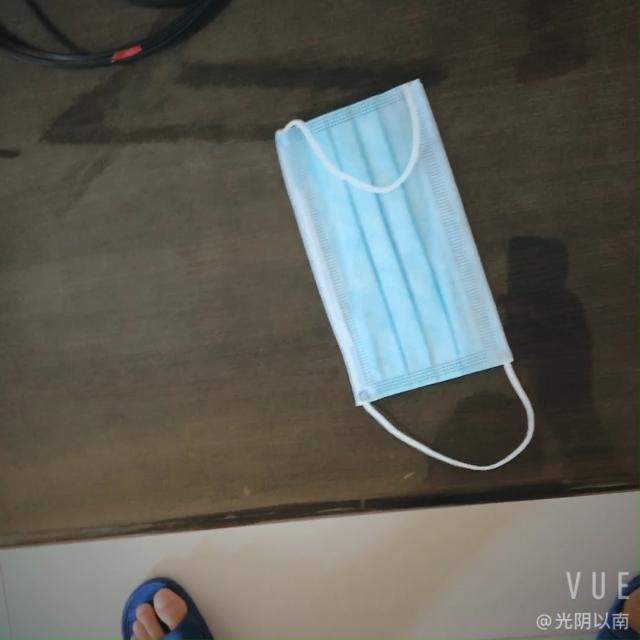face mask: (282, 80, 520, 433)
